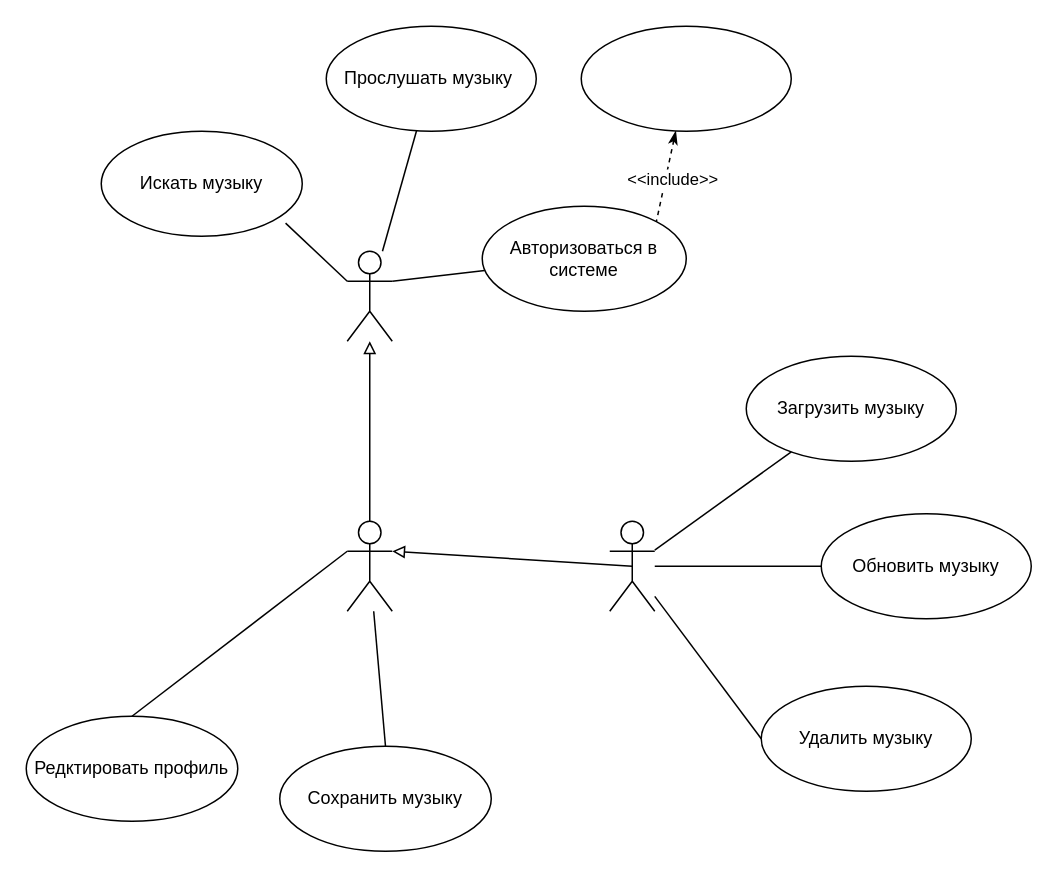
Some shapes in this 1058 by 878 pixel diagram are drawn without their labels. The box of each missing label's shape, as (x1, y1, x2, y2) in pixels:
Администратор: (608, 520, 655, 611)
Зарегистрированный пользователь: (346, 520, 392, 611)
Зарегистрироваться в системе: (580, 25, 791, 131)
Не зарегистрированный пользователь: (346, 250, 392, 341)
